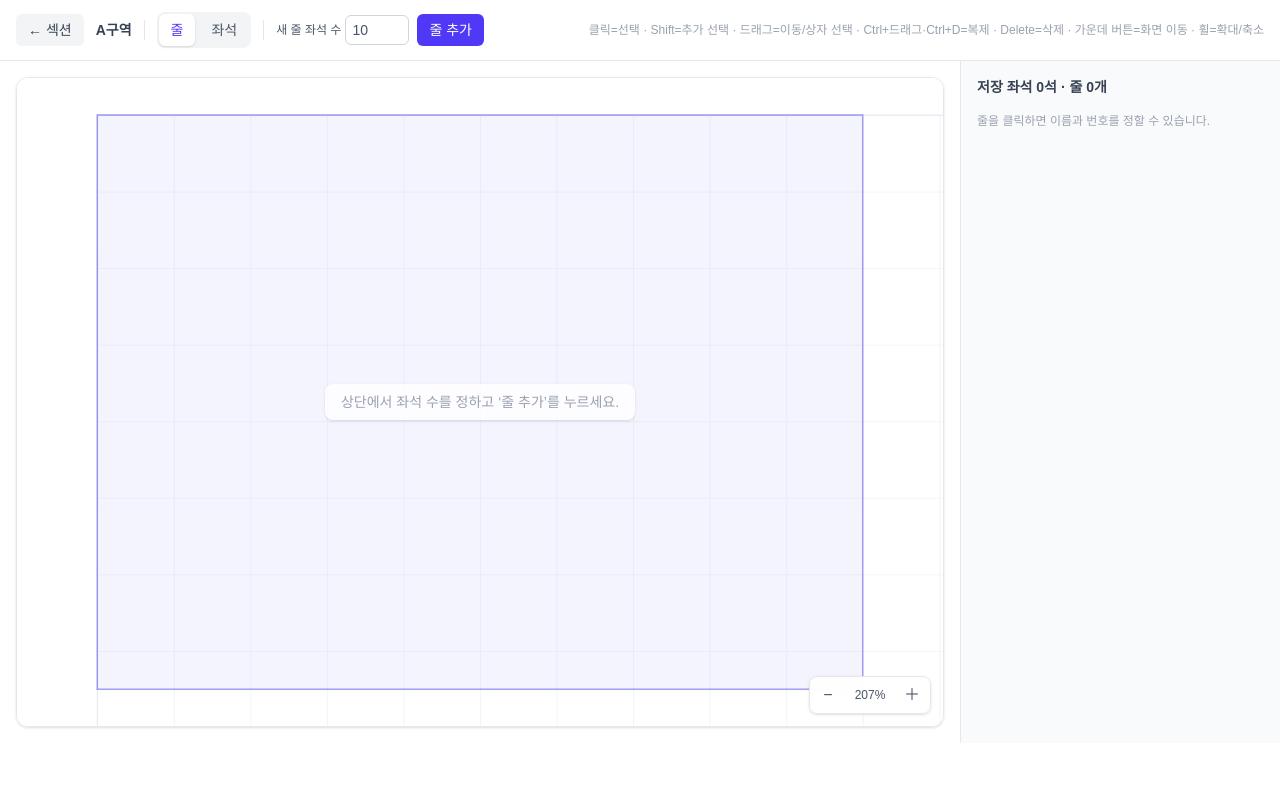
Test: 줄 이름 입력은 10자까지
Click the button "줄 추가" at (451,30), box [417,14,484,46]
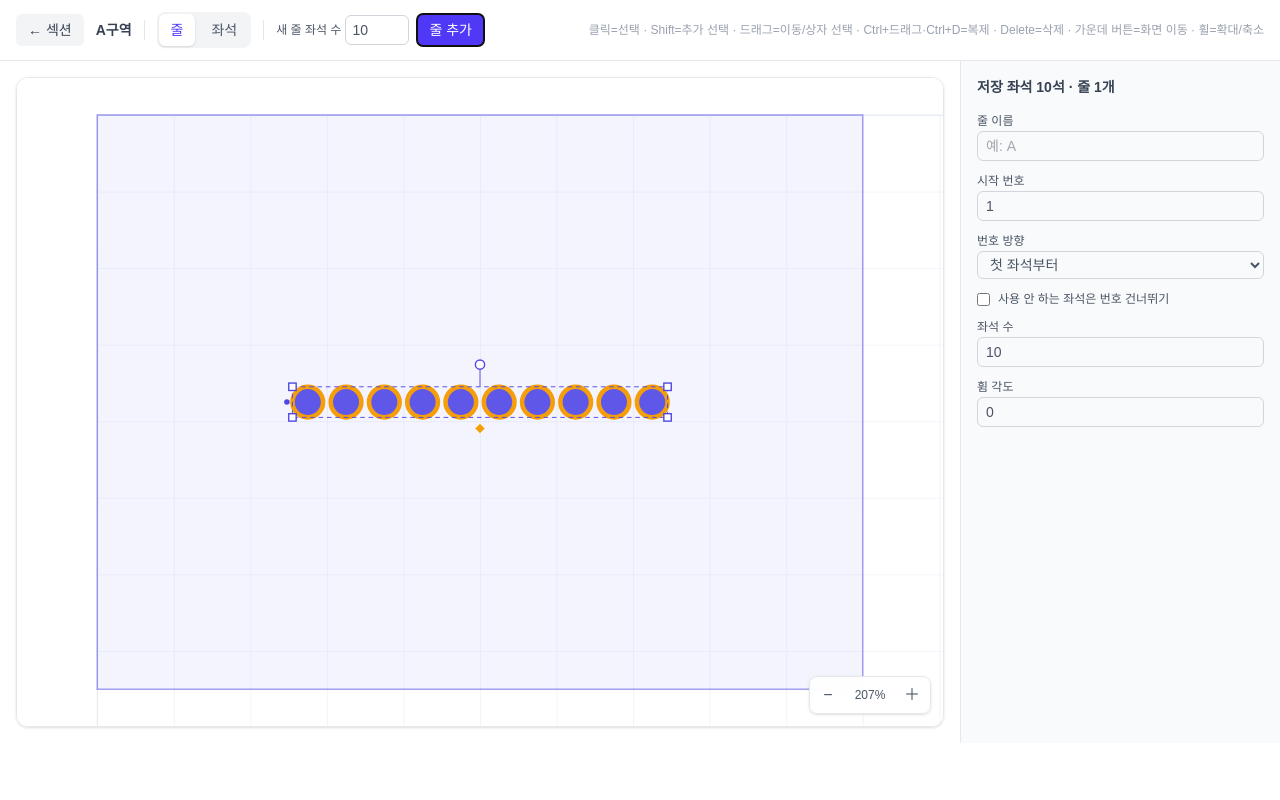
Type "123456789012" into the field labelled "줄 이름" at (1120,146), box [977,131,1264,161]
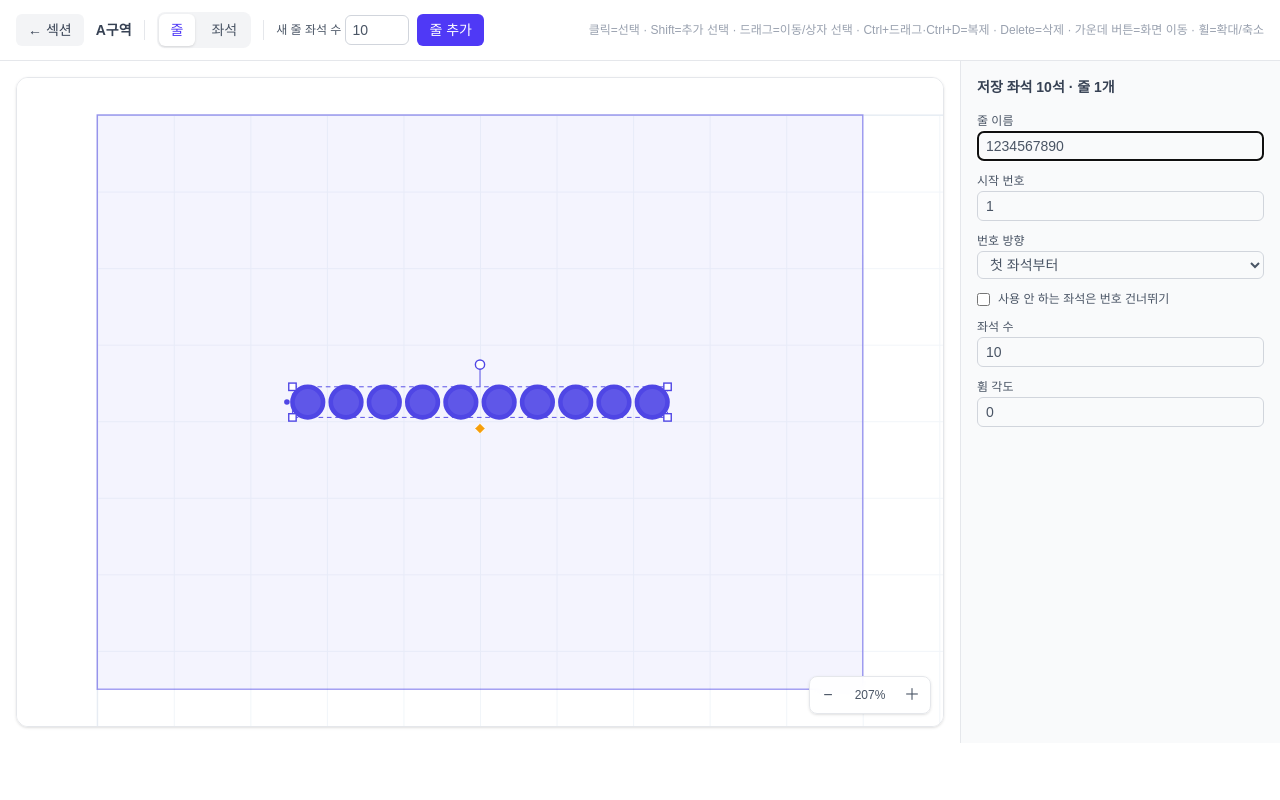
Check: the field labelled "줄 이름" holds "1234567890", box [977,131,1264,161]
